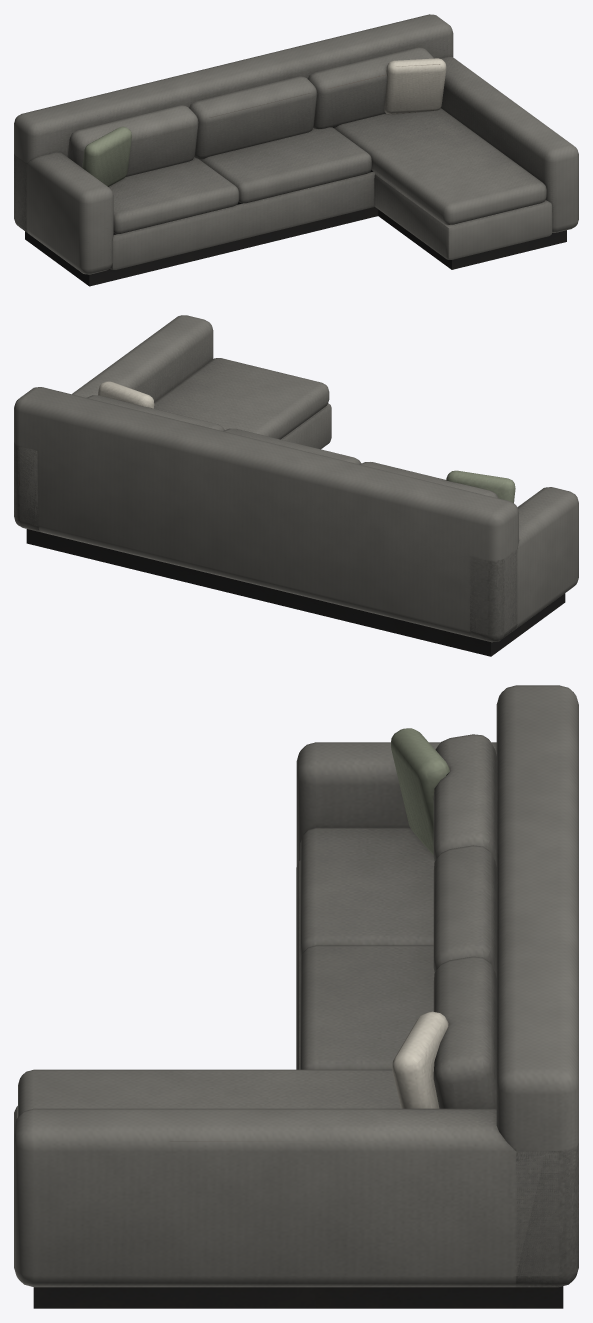
Rendered from H_Sofa_Sectional.fbx.
3 renders of one model, top to bottom at view 1: azimuth 30°, elevation 25°; view 2: azimuth 150°, elevation 25°; view 3: azimuth 270°, elevation 25°, orthographic. The views are drawn at different scales.
Parts seen in each view (by area): view 1: H_Sofa_Sectional; view 2: H_Sofa_Sectional; view 3: H_Sofa_Sectional.
Boxes of the visible parts, left/top/right/bottom form: H_Sofa_Sectional: left=14, top=14, right=578, bottom=286; H_Sofa_Sectional: left=14, top=315, right=578, bottom=656; H_Sofa_Sectional: left=14, top=685, right=578, bottom=1308.
Bounding box in the file's own units: 1200 × 340 × 720.
Materials: 1 (1 with a texture image).
